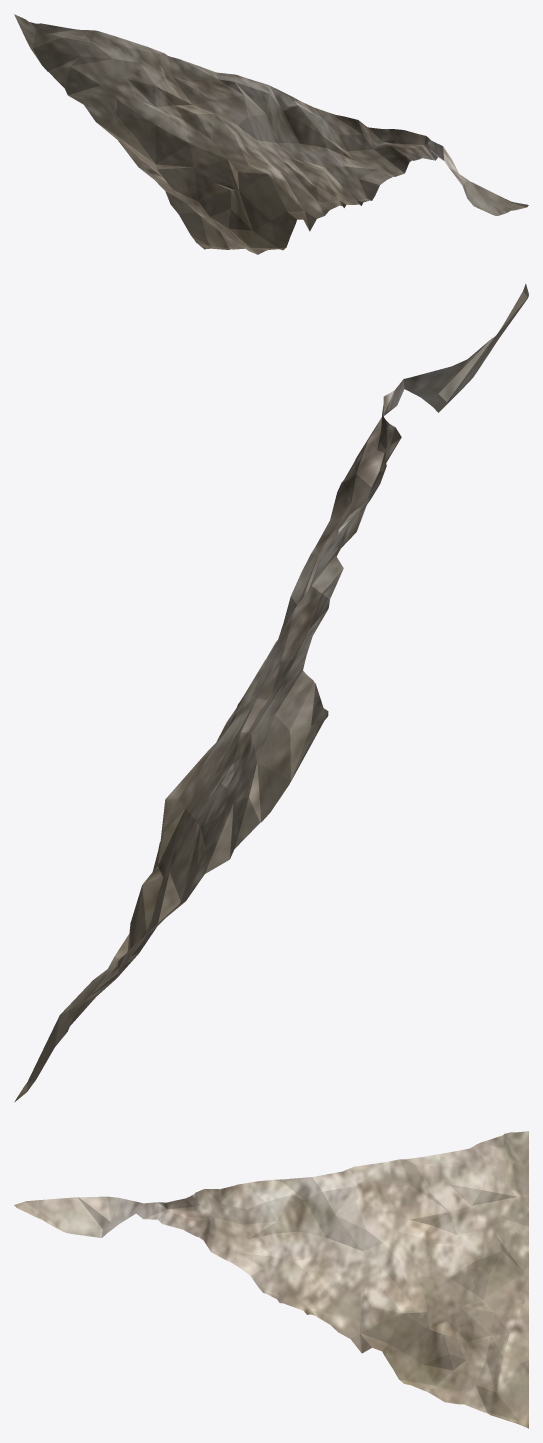
3 views of the same model, one above another, from view 1: azimuth 30°, elevation 25°; view 2: azimuth 150°, elevation 25°; view 3: azimuth 270°, elevation 25° (orthographic). The views are drawn at different scales.
Size of the model in its own units: 0.9492 by 1.34 by 2.8.
Materials: 1 (1 with a texture image).
